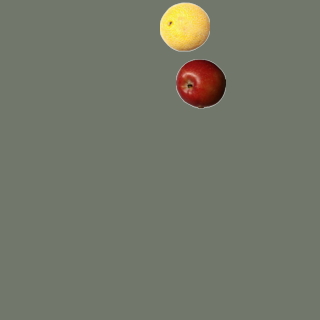Apple Braeburn: (175, 58, 225, 108)
Cantaloupe 1: (159, 1, 209, 51)
